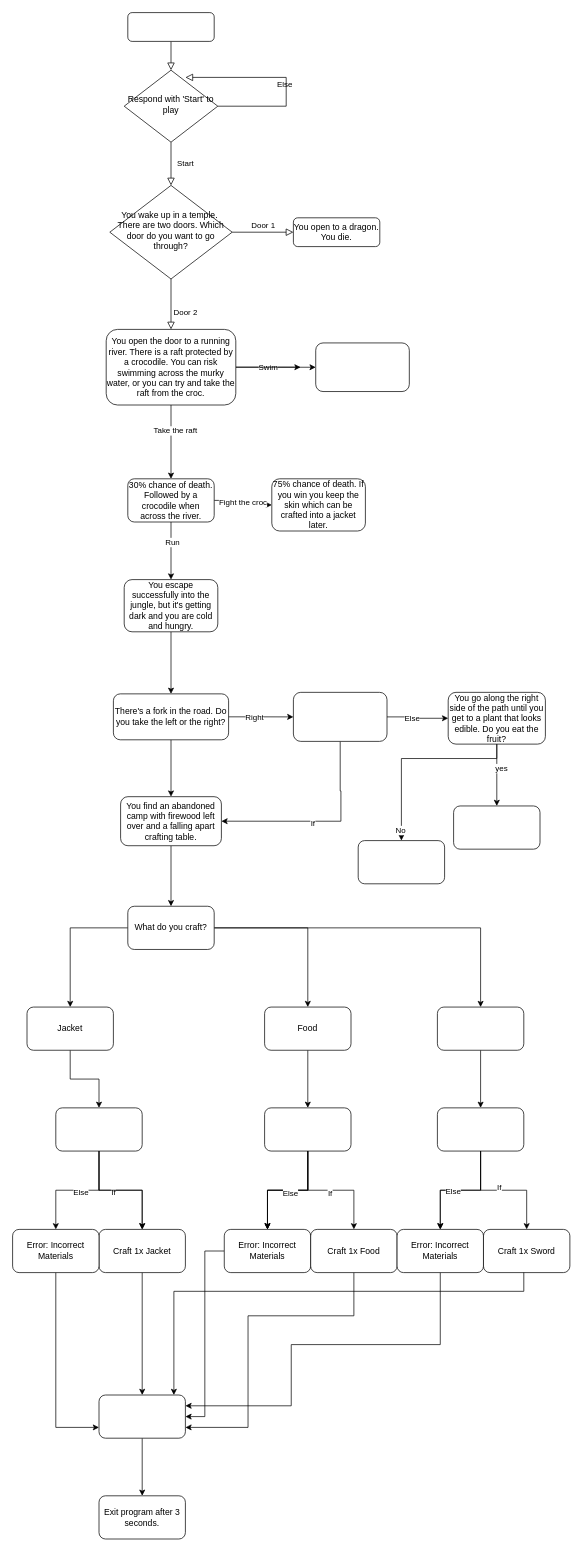
Some shapes in this 582 by 1552 pixel diagram are drawn without their labels. The box of each missing label's shape, as (x1, y1, x2, y2) in pixels:
10% chance of seeing the crafting table and going left anyway.: (293, 692, 387, 741)
75% chance of death. If you survive you are safely on the other side.: (315, 342, 409, 392)
Do you have Crocodile Meat?: (264, 1107, 351, 1151)
Do you have Crocodile Skin?: (55, 1107, 142, 1151)
Do you have Wood?: (437, 1107, 524, 1151)
Open File: (127, 12, 214, 41)
The paths fork back together.: (357, 840, 445, 884)
Wood Sword: (437, 1006, 524, 1050)
You continue towards a house. You're home.: (98, 1394, 185, 1438)
You die: (453, 805, 540, 849)
